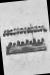Y5: (1, 0, 50, 74)
